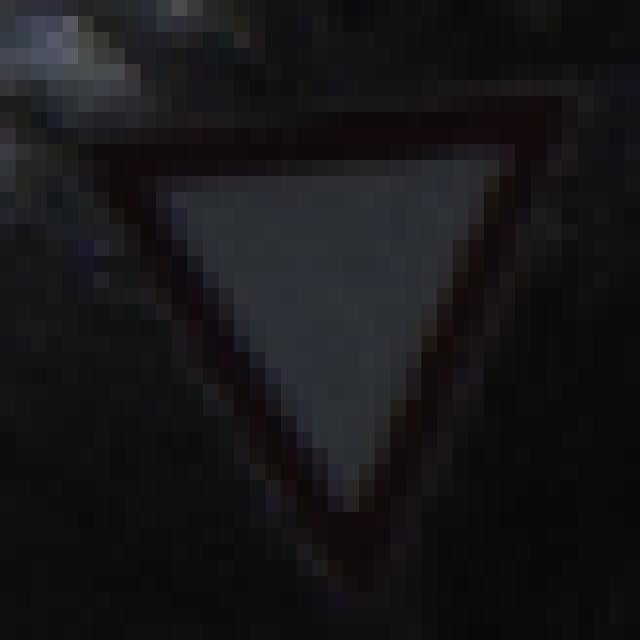Give Way: (79, 97, 563, 561)
